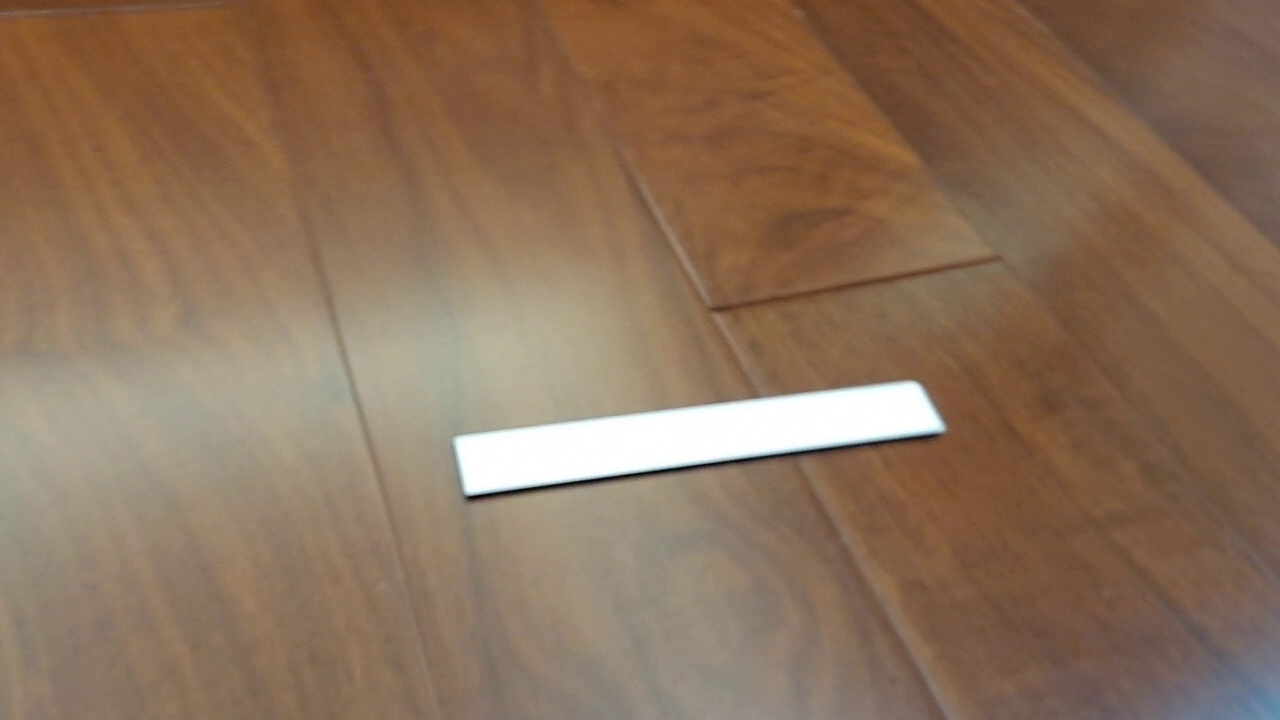ruler: (450, 378, 949, 500)
